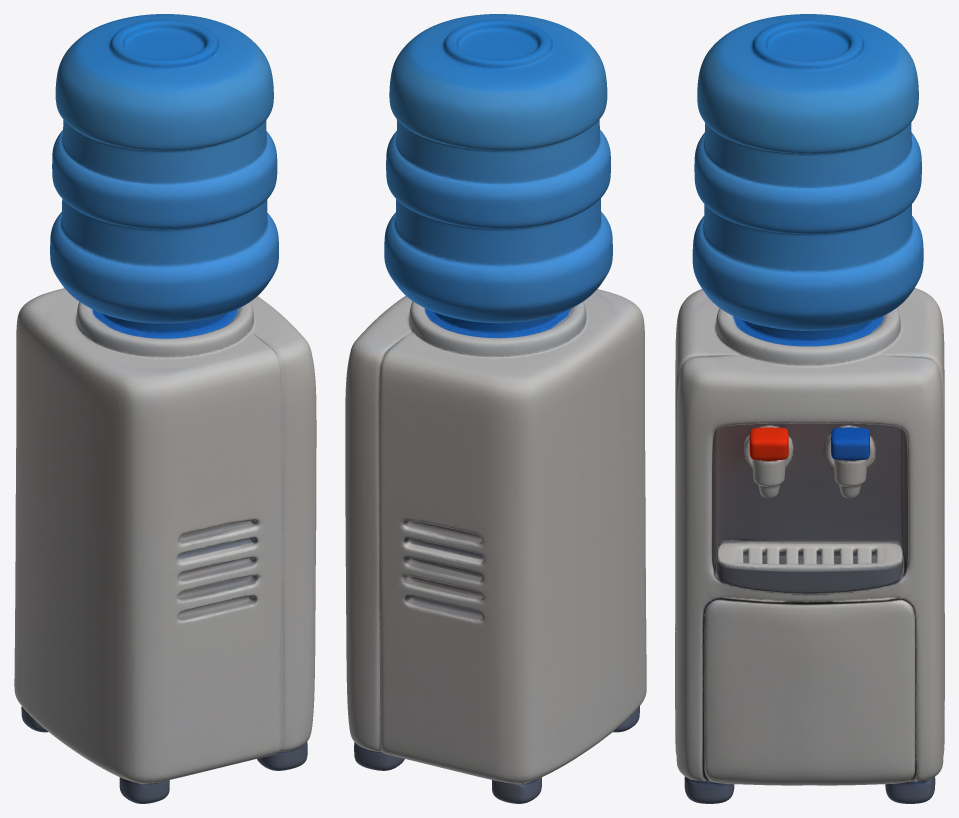
File: water_cooler.glb
3 renders of one model, left to right at view 1: azimuth 30°, elevation 25°; view 2: azimuth 150°, elevation 25°; view 3: azimuth 270°, elevation 25°, orthographic. The views are drawn at different scales.
Visible parts, largest first — view 1: tripo_node_3f05716a-2d50-4d4c-8765-ddb3ccbb1be4; view 2: tripo_node_3f05716a-2d50-4d4c-8765-ddb3ccbb1be4; view 3: tripo_node_3f05716a-2d50-4d4c-8765-ddb3ccbb1be4.
Boxes of the visible parts, bbox=[...] form: tripo_node_3f05716a-2d50-4d4c-8765-ddb3ccbb1be4: bbox=[14, 14, 316, 803]; tripo_node_3f05716a-2d50-4d4c-8765-ddb3ccbb1be4: bbox=[345, 14, 646, 803]; tripo_node_3f05716a-2d50-4d4c-8765-ddb3ccbb1be4: bbox=[675, 14, 944, 803].
Size of the model in its own units: 0.3212 by 1 by 0.3385.
1 material, 1 textured.
